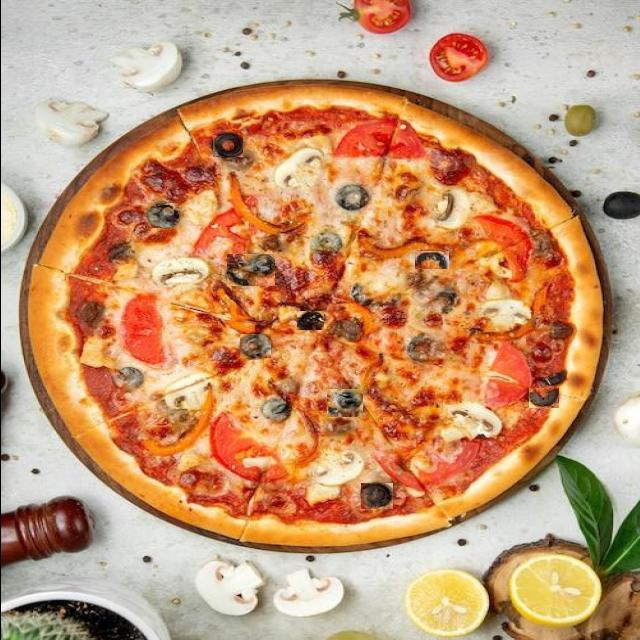olive: (226, 254, 274, 286), (326, 389, 362, 417), (334, 186, 369, 210), (360, 483, 392, 509), (147, 203, 178, 228), (239, 334, 270, 358), (212, 133, 242, 157), (414, 251, 448, 269), (261, 399, 290, 420), (528, 388, 558, 408), (296, 311, 323, 330), (538, 371, 565, 386)
pizza: (26, 81, 604, 547)
